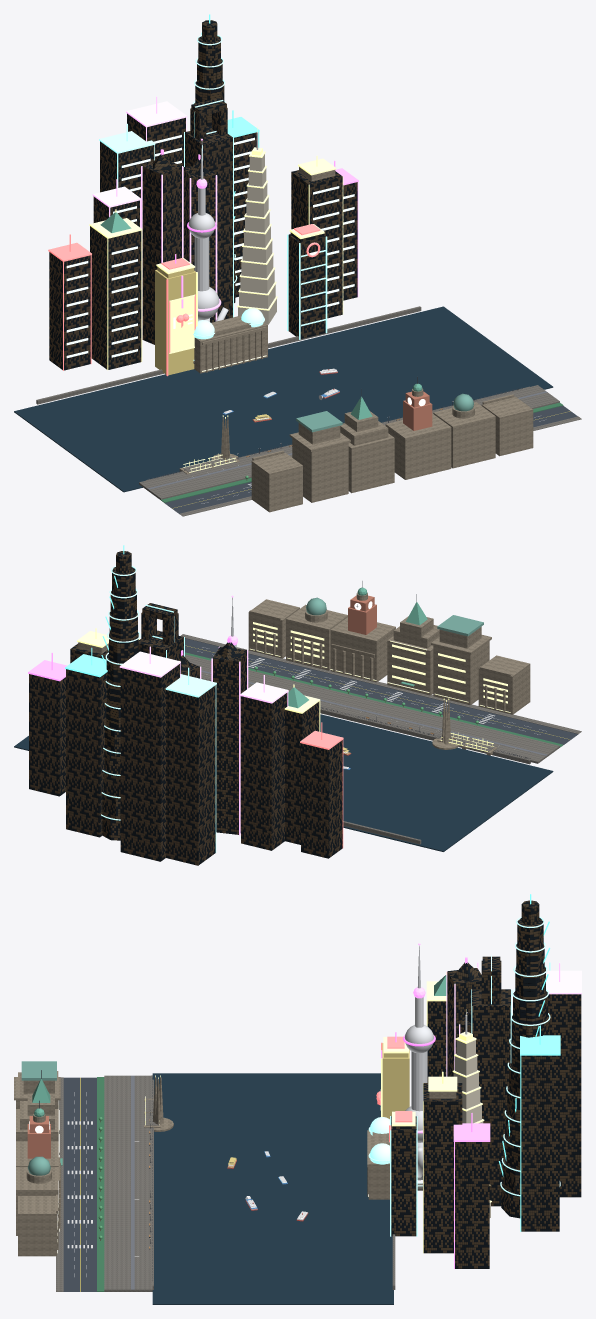
The model's file is bund_realistic.glb.
The picture shows the model from 3 angles, top to bottom: view 1: azimuth 30°, elevation 25°; view 2: azimuth 150°, elevation 25°; view 3: azimuth 270°, elevation 25°; orthographic projection. The views are drawn at different scales.
Visible parts, largest first — view 1: City_Static_M_RiverBed_0, City_Static_CurtainWall_PBR_0, City_Static_CurtainWall_PBR_-2, City_Static_CurtainWall_PBR_-1, City_Static_Limestone_PBR_-1, City_Static_CurtainWall_PBR_1, City_Static_CurtainWall_PBR_-3, City_Static_M_JinMaoFacade_1, Bund_Surface_Granite_PBR_0, City_Static_CurtainWall_PBR_2, City_Static_Limestone_PBR_-2, City_Static_Limestone_PBR_0 (+15 smaller); view 2: City_Static_M_RiverBed_0, City_Static_CurtainWall_PBR_0, City_Static_CurtainWall_PBR_-1, City_Static_CurtainWall_PBR_-2, Bund_Surface_Granite_PBR_0, City_Static_CurtainWall_PBR_1, City_Static_M_ZhongshanAsphalt_0, City_Static_CurtainWall_PBR_-3, City_Static_CurtainWall_PBR_3, City_Static_Limestone_PBR_-2, City_Static_Limestone_PBR_0, City_Static_Limestone_PBR_-1 (+16 smaller); view 3: City_Static_M_RiverBed_0, City_Static_CurtainWall_PBR_0, Bund_Surface_Granite_PBR_0, City_Static_CurtainWall_PBR_1, City_Static_M_ZhongshanAsphalt_0, City_Static_CurtainWall_PBR_2, City_Static_CurtainWall_PBR_3, Bund_Surface_Limestone_PBR_2, City_Static_Limestone_PBR_-1, City_Static_M_PearlBody_-1, City_Static_CurtainWall_PBR_-1, City_Static_M_AuroraGold_-2 (+15 smaller).
Boxes of the visible parts, x1=… form: City_Static_M_RiverBed_0: x1=14, y1=306, x2=553, y2=492; City_Static_CurtainWall_PBR_0: x1=127, y1=36, x2=235, y2=322; City_Static_CurtainWall_PBR_-2: x1=90, y1=196, x2=141, y2=369; City_Static_CurtainWall_PBR_-1: x1=100, y1=141, x2=181, y2=344; City_Static_Limestone_PBR_-1: x1=194, y1=315, x2=394, y2=493; City_Static_CurtainWall_PBR_1: x1=234, y1=132, x2=325, y2=338; City_Static_CurtainWall_PBR_-3: x1=49, y1=252, x2=90, y2=370; City_Static_M_JinMaoFacade_1: x1=238, y1=154, x2=276, y2=324; Bund_Surface_Granite_PBR_0: x1=139, y1=385, x2=581, y2=516; City_Static_CurtainWall_PBR_2: x1=291, y1=170, x2=342, y2=318; City_Static_Limestone_PBR_-2: x1=289, y1=423, x2=350, y2=502; City_Static_Limestone_PBR_0: x1=242, y1=330, x2=451, y2=479; City_Static_M_RiverBed_0: x1=14, y1=714, x2=553, y2=851; City_Static_CurtainWall_PBR_0: x1=102, y1=567, x2=199, y2=861; City_Static_CurtainWall_PBR_-1: x1=166, y1=642, x2=246, y2=865; City_Static_CurtainWall_PBR_-2: x1=241, y1=693, x2=319, y2=850; Bund_Surface_Granite_PBR_0: x1=180, y1=634, x2=581, y2=764; City_Static_CurtainWall_PBR_1: x1=66, y1=669, x2=107, y2=837; City_Static_M_ZhongshanAsphalt_0: x1=185, y1=638, x2=577, y2=744; City_Static_CurtainWall_PBR_-3: x1=301, y1=740, x2=342, y2=858; City_Static_CurtainWall_PBR_3: x1=29, y1=674, x2=65, y2=796; City_Static_Limestone_PBR_-2: x1=431, y1=626, x2=491, y2=705; City_Static_Limestone_PBR_0: x1=330, y1=592, x2=395, y2=682; City_Static_Limestone_PBR_-1: x1=343, y1=616, x2=439, y2=752; City_Static_M_RiverBed_0: x1=152, y1=1073, x2=393, y2=1304; City_Static_CurtainWall_PBR_0: x1=460, y1=918, x2=581, y2=1218; Bund_Surface_Granite_PBR_0: x1=56, y1=1075, x2=153, y2=1291; City_Static_CurtainWall_PBR_1: x1=391, y1=1055, x2=559, y2=1236; City_Static_M_ZhongshanAsphalt_0: x1=63, y1=1077, x2=96, y2=1291; City_Static_CurtainWall_PBR_2: x1=423, y1=1083, x2=462, y2=1253; City_Static_CurtainWall_PBR_3: x1=455, y1=1142, x2=489, y2=1268; Bund_Surface_Limestone_PBR_2: x1=18, y1=1194, x2=58, y2=1256; City_Static_Limestone_PBR_-1: x1=16, y1=1093, x2=389, y2=1199; City_Static_M_PearlBody_-1: x1=404, y1=945, x2=433, y2=1180; City_Static_CurtainWall_PBR_-1: x1=447, y1=962, x2=481, y2=1076; City_Static_M_AuroraGold_-2: x1=382, y1=1043, x2=409, y2=1118.
Size of the model in its own units: 280 by 180 by 291.
43 materials, 3 textured.
